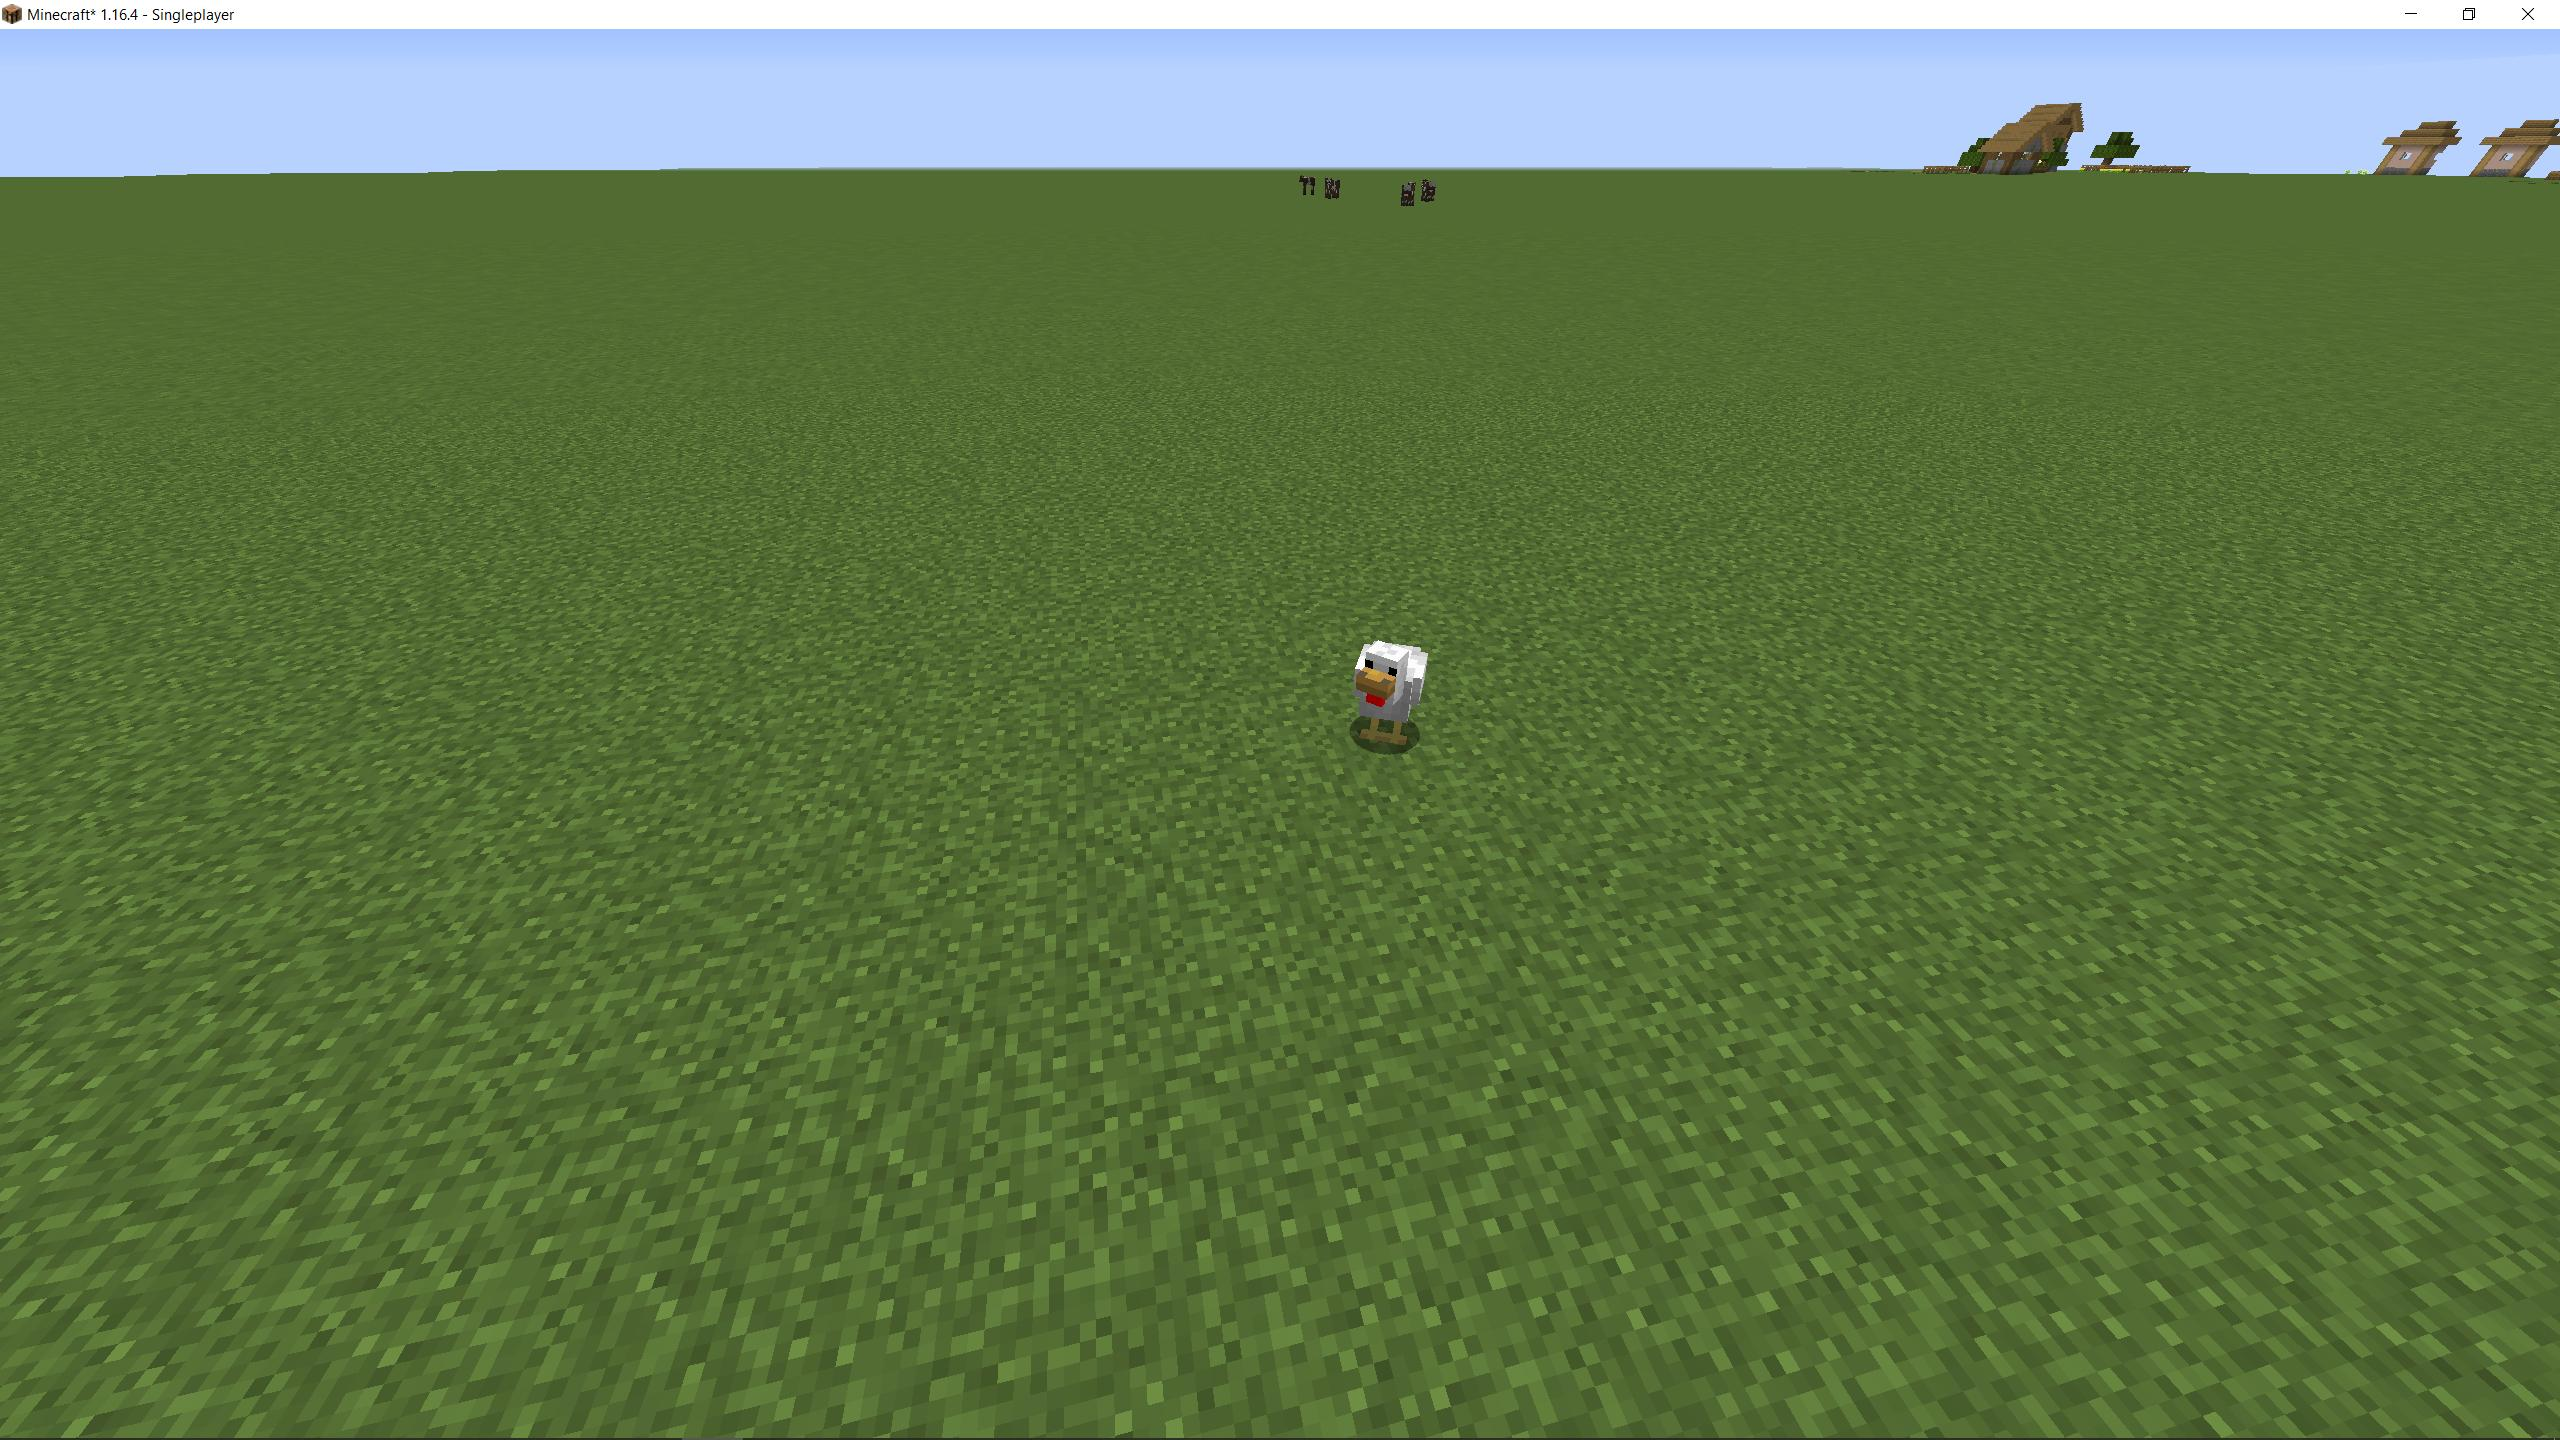chicken: (1349, 638, 1428, 758)
